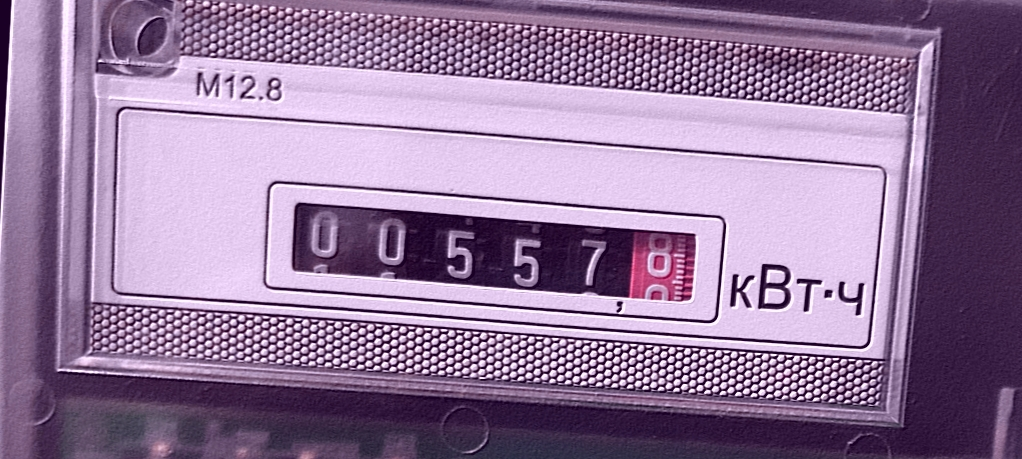0: (305, 205, 342, 263), (373, 215, 409, 268)
5: (506, 231, 547, 292), (440, 225, 478, 283)
7: (572, 234, 608, 291)
8: (644, 231, 674, 282)
screen: (256, 173, 731, 330)
